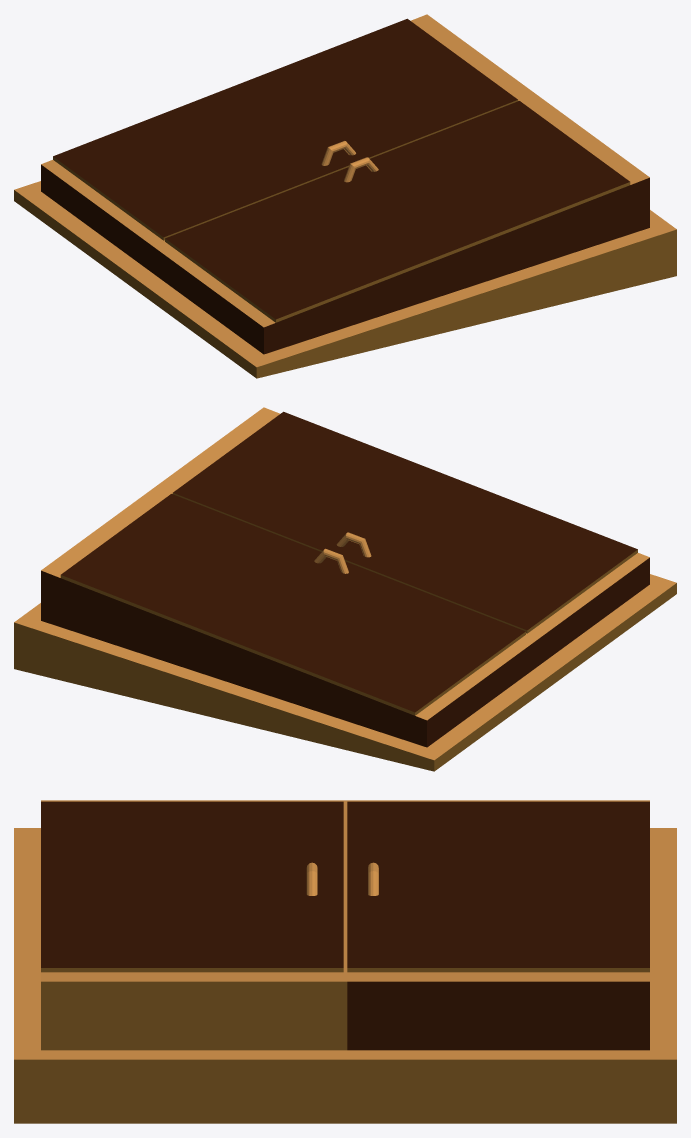
The model's file is Basement Entrance.fbx.
3 renders of one model, top to bottom at view 1: azimuth 30°, elevation 25°; view 2: azimuth 150°, elevation 25°; view 3: azimuth 270°, elevation 25°, orthographic. The views are drawn at different scales.
Visible parts, largest first — view 1: Cube.001; view 2: Cube.001; view 3: Cube.001.
Boxes of the visible parts, left/top/right/bottom form: Cube.001: left=14, top=14, right=676, bottom=378; Cube.001: left=14, top=407, right=676, bottom=771; Cube.001: left=14, top=800, right=676, bottom=1123.
Bounding box in the file's own units: 2 × 0.4366 × 2.
